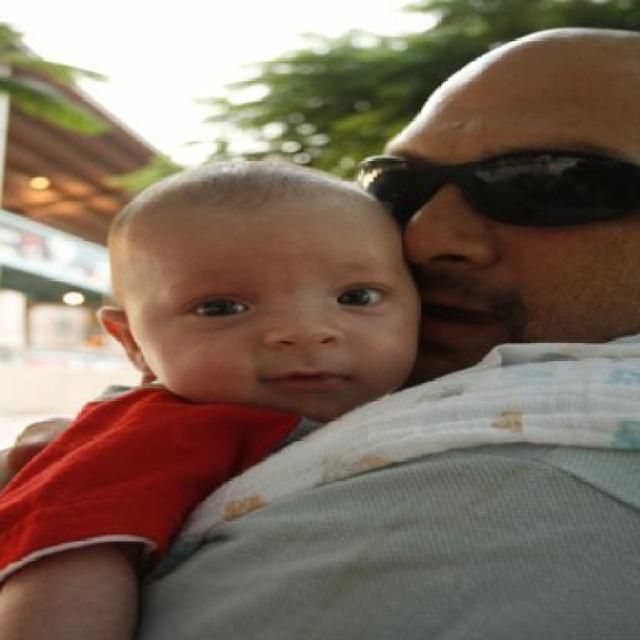face_nomask: (349, 147, 608, 348), (176, 275, 387, 396)
glasses: (341, 141, 639, 236)
head_nohelmet: (397, 19, 640, 102), (116, 153, 376, 230)
